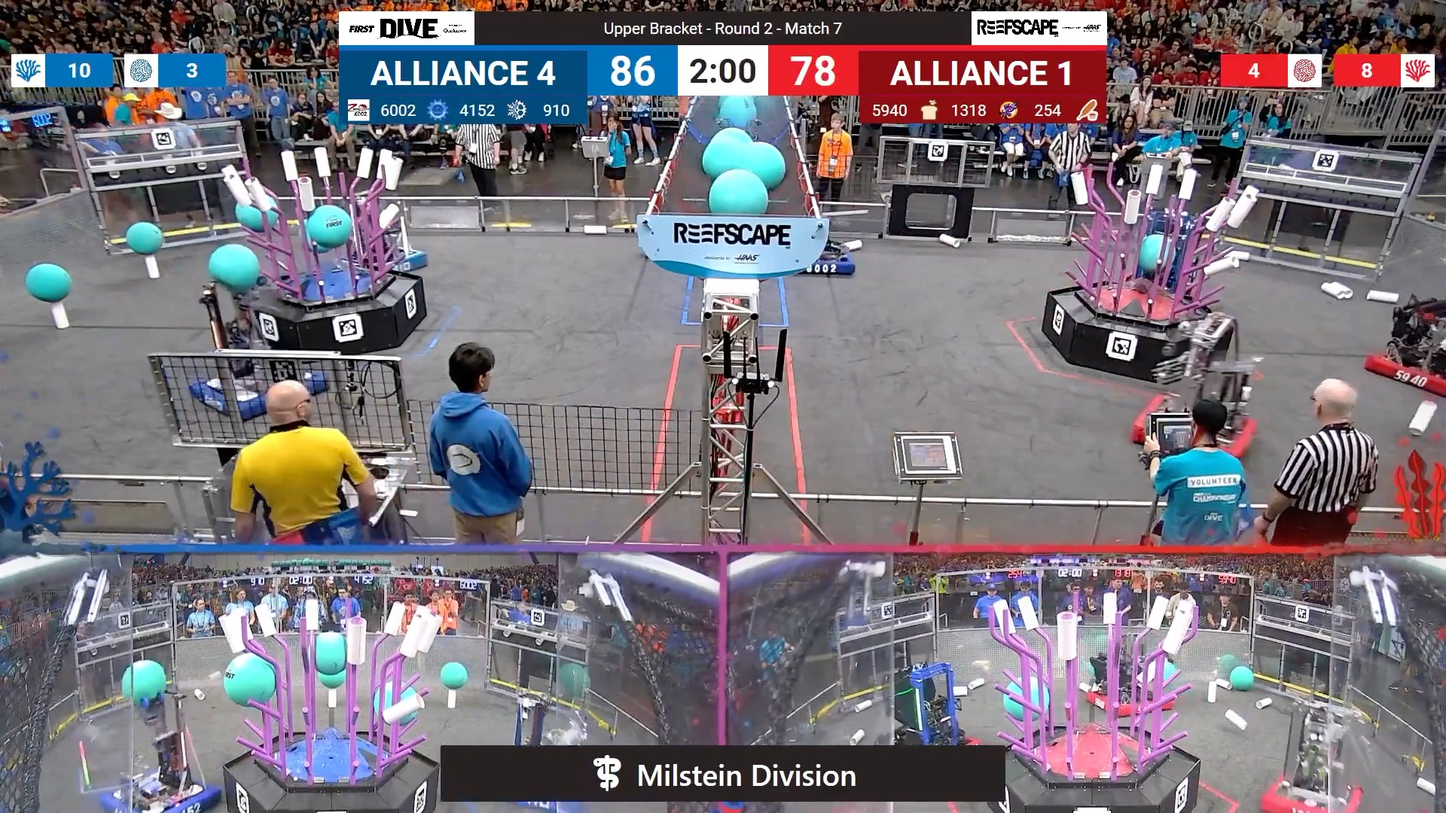bumpers: (1128, 397, 1268, 468), (181, 362, 324, 423), (95, 772, 225, 813), (1359, 339, 1446, 399), (1257, 769, 1370, 813), (1084, 685, 1180, 720), (355, 247, 435, 277), (795, 251, 859, 279)
